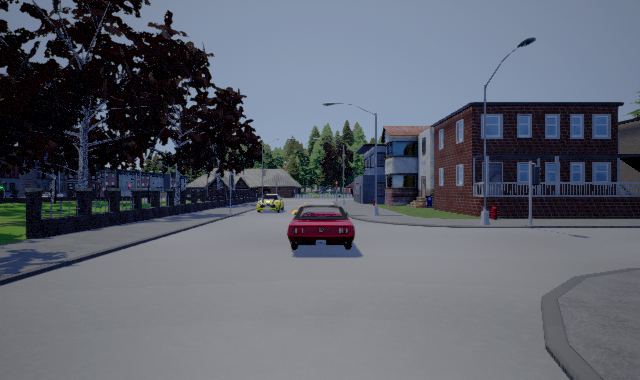traffic_light: (532, 163, 541, 185)
vehicle: (287, 205, 355, 250), (257, 194, 284, 213)
